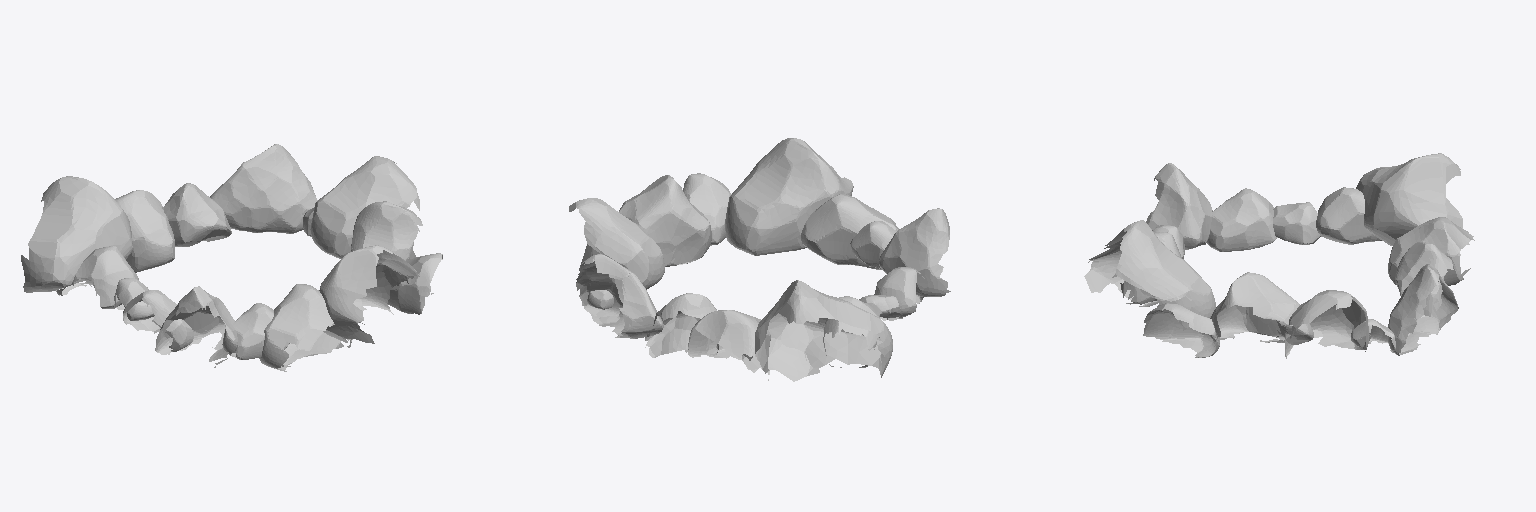
Rendered from rock_walls.obj.
The picture shows the model from 3 angles: view 1: azimuth 30°, elevation 25°; view 2: azimuth 150°, elevation 25°; view 3: azimuth 270°, elevation 25°; orthographic projection.
Visible parts, largest first — view 1: rock_walls; view 2: rock_walls; view 3: rock_walls.
Part boxes in pixels (x1,y1,x2,y2): rock_walls: (21, 144, 442, 371); rock_walls: (569, 138, 950, 381); rock_walls: (1084, 153, 1474, 358).
Size of the model in its own units: 158 by 45.34 by 154.